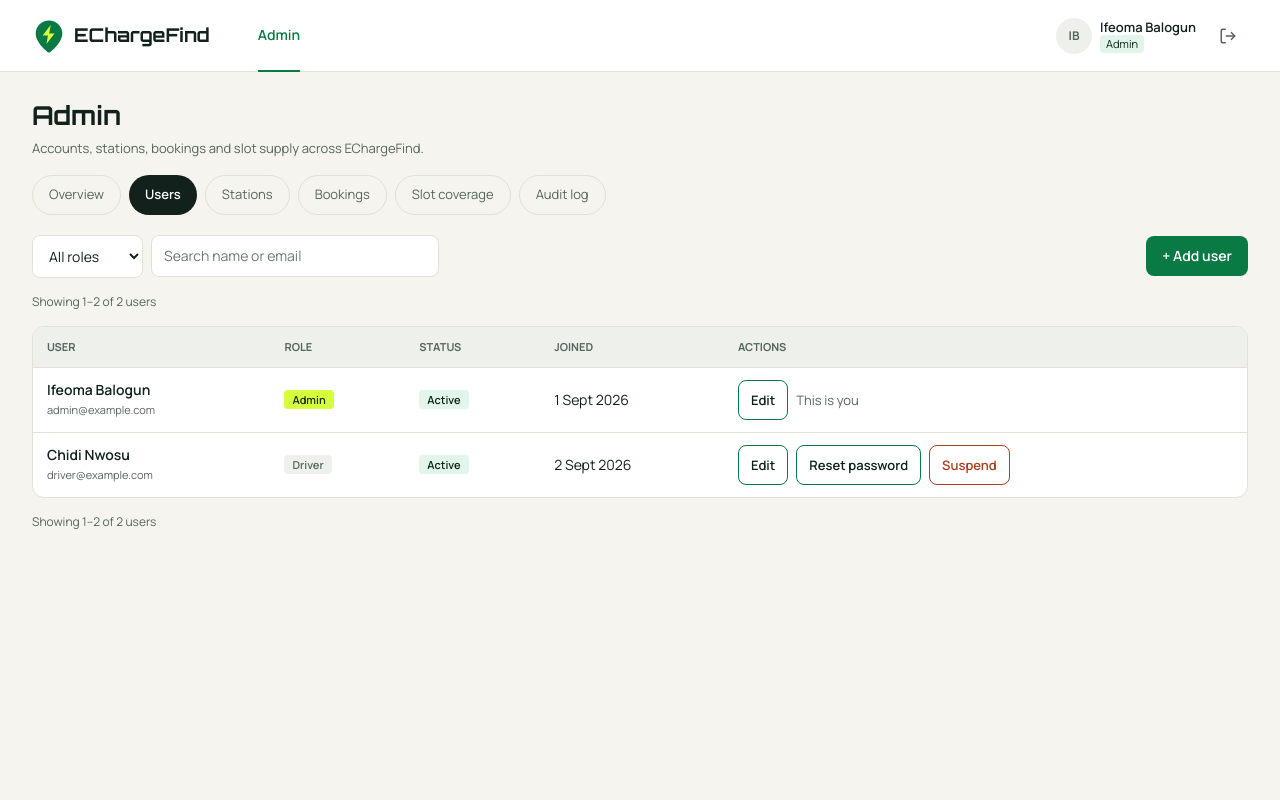
Test: editing a user › opens pre-filled, saves the changes, and updates the row
expect the text "Chidi Nwosu" is shown: met, box [47, 444, 130, 464]
Click the button with aria-label "Edit Chidi Nwosu": [763, 464] box [738, 444, 788, 484]
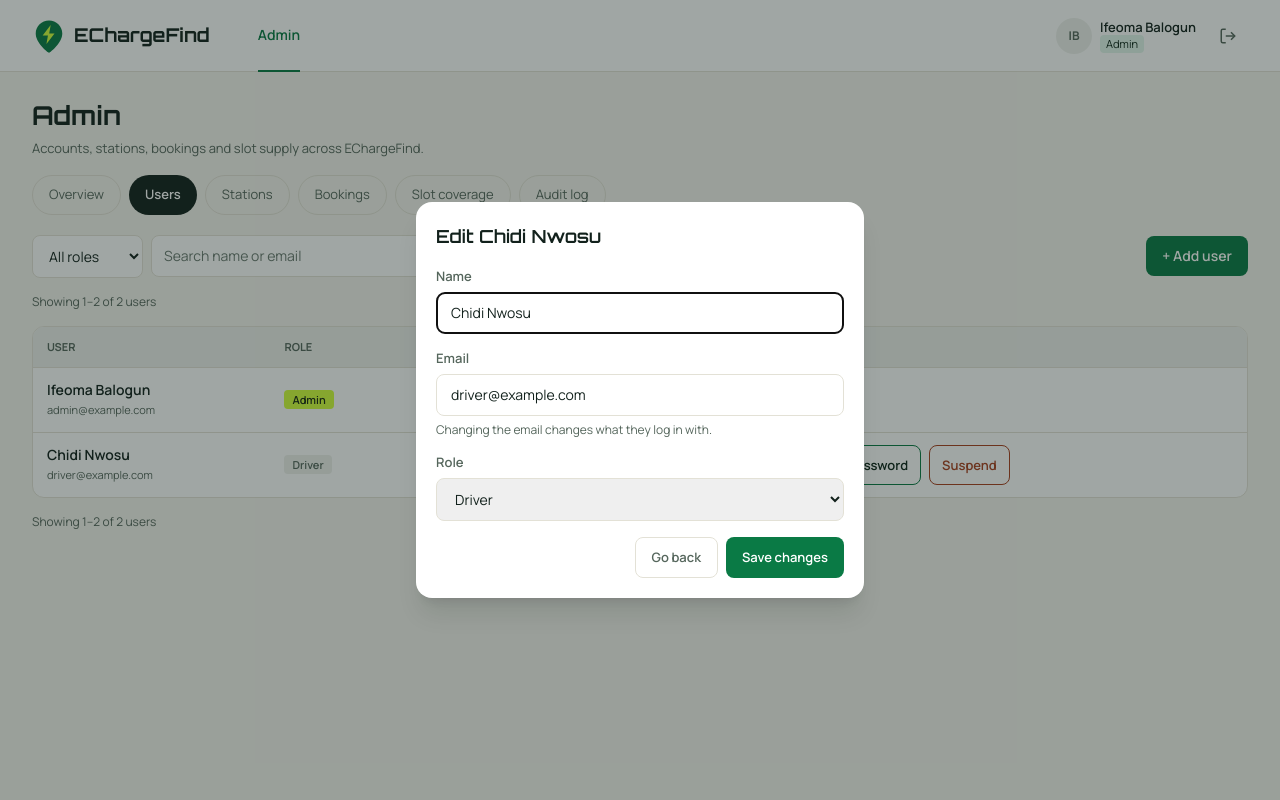
expect the field labelled "Name" holds "Chidi Nwosu": met
expect the field labelled "Email" holds "driver@example.com": met, box [436, 374, 844, 416]
expect the dropdown labelled "Role" shows "Driver": met, box [436, 478, 844, 521]
Replace the text in the field labelled "Name" with "Chidi N. Nwosu": [640, 313] box [436, 292, 844, 334]
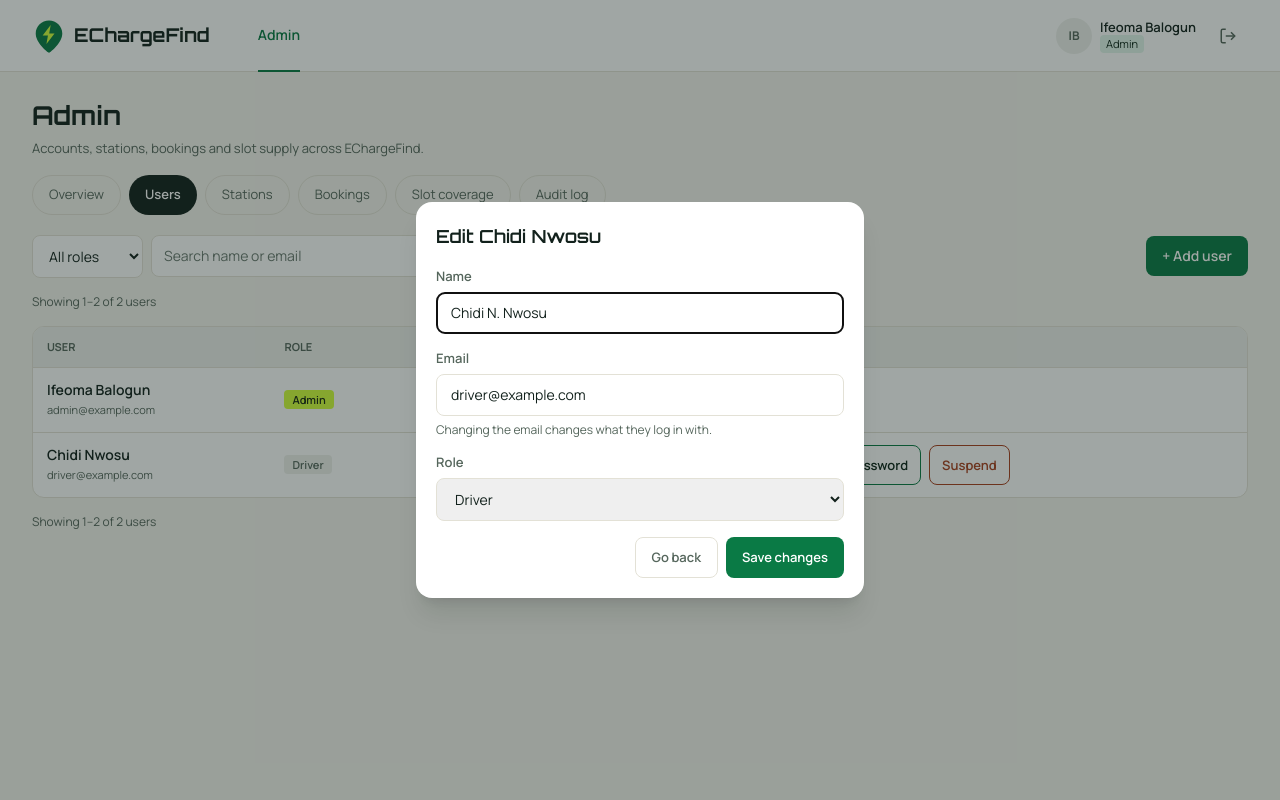
Click the button "Save changes": [785, 558] box [726, 537, 844, 578]
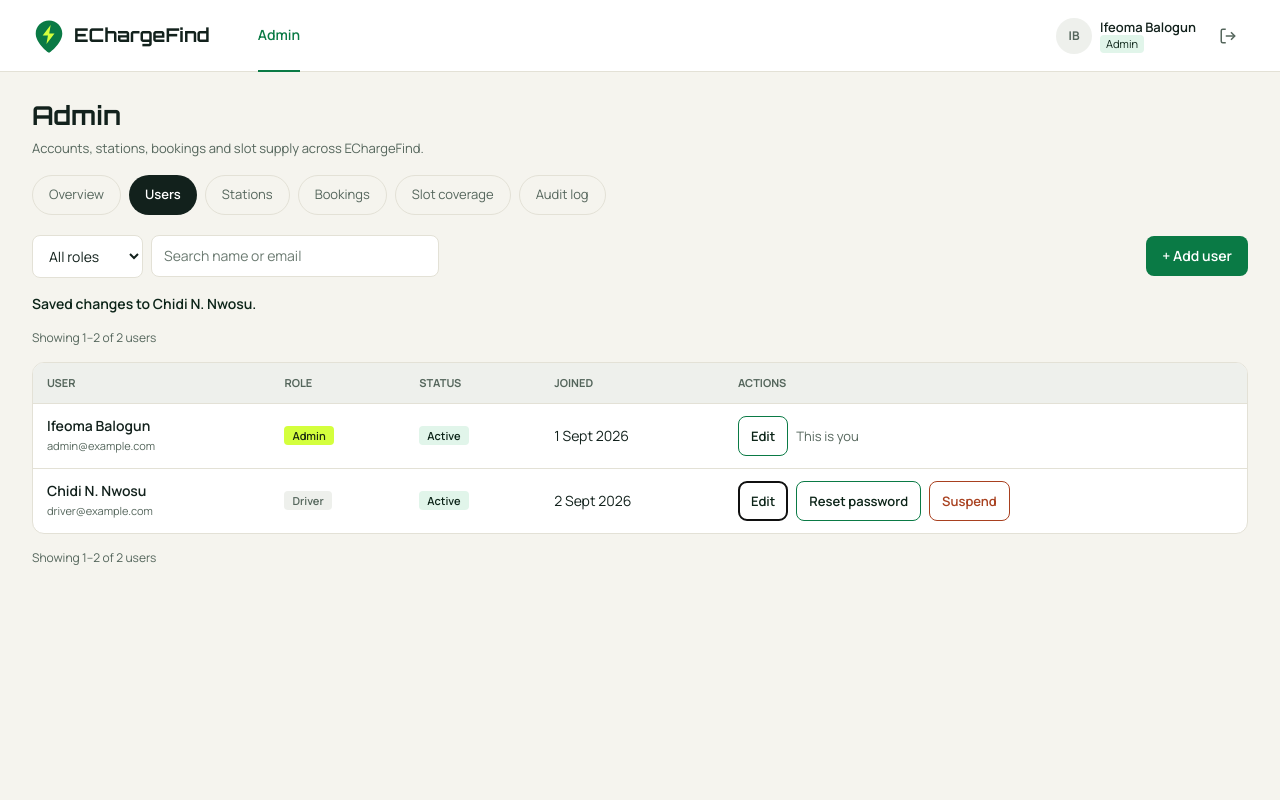
expect the text "Chidi N. Nwosu" is shown: met, box [47, 480, 146, 500]
